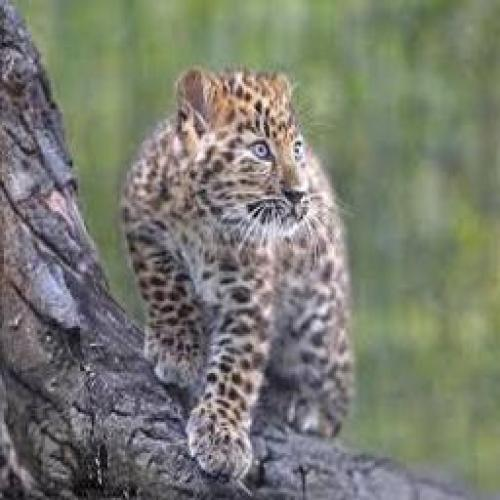amur_leopard-endangered: (118, 63, 360, 480)
